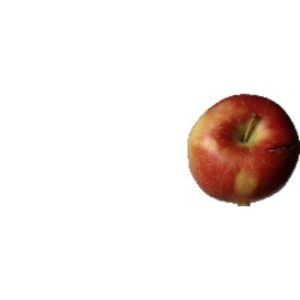maçã braeburn: (184, 92, 300, 206)
